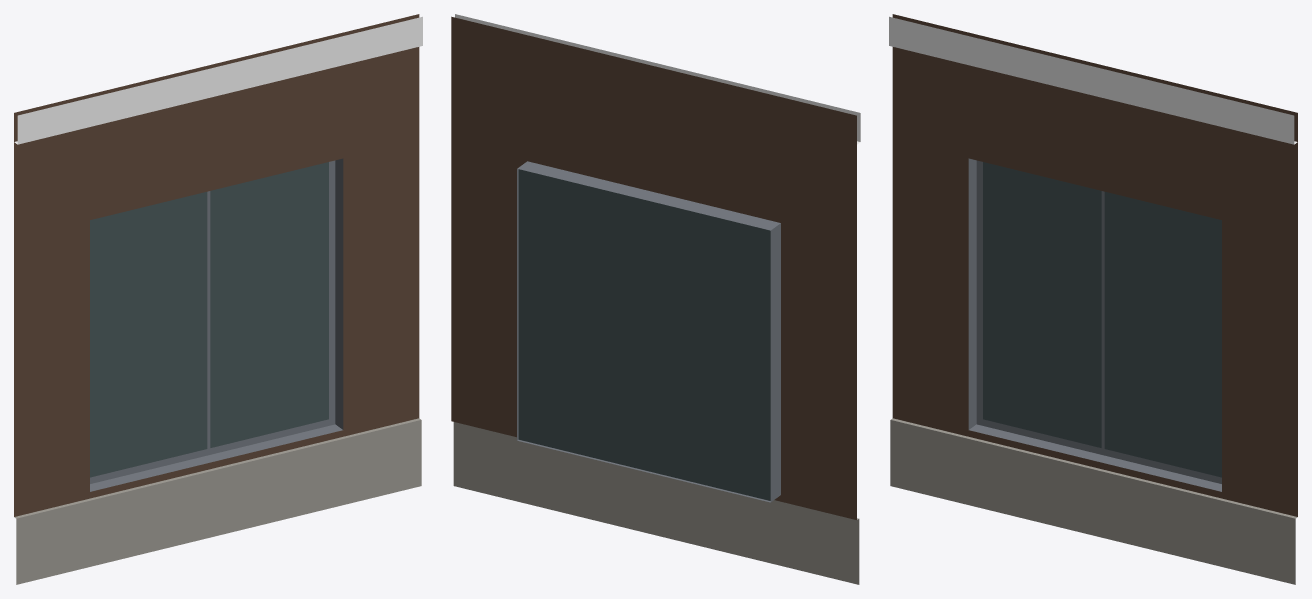
3 renders of one model, left to right at view 1: azimuth 30°, elevation 25°; view 2: azimuth 150°, elevation 25°; view 3: azimuth 330°, elevation 25°, orthographic.
Visible parts, largest first — view 1: a2000s3/800/base-w3; view 2: a2000s3/800/base-w3; view 3: a2000s3/800/base-w3.
Part boxes in pixels (x1,y1,x2,y2): a2000s3/800/base-w3: (14, 14, 422, 584); a2000s3/800/base-w3: (451, 14, 860, 584); a2000s3/800/base-w3: (889, 14, 1297, 584).
Bounding box in the file's own units: 3.2 × 3.55 × 0.19.
